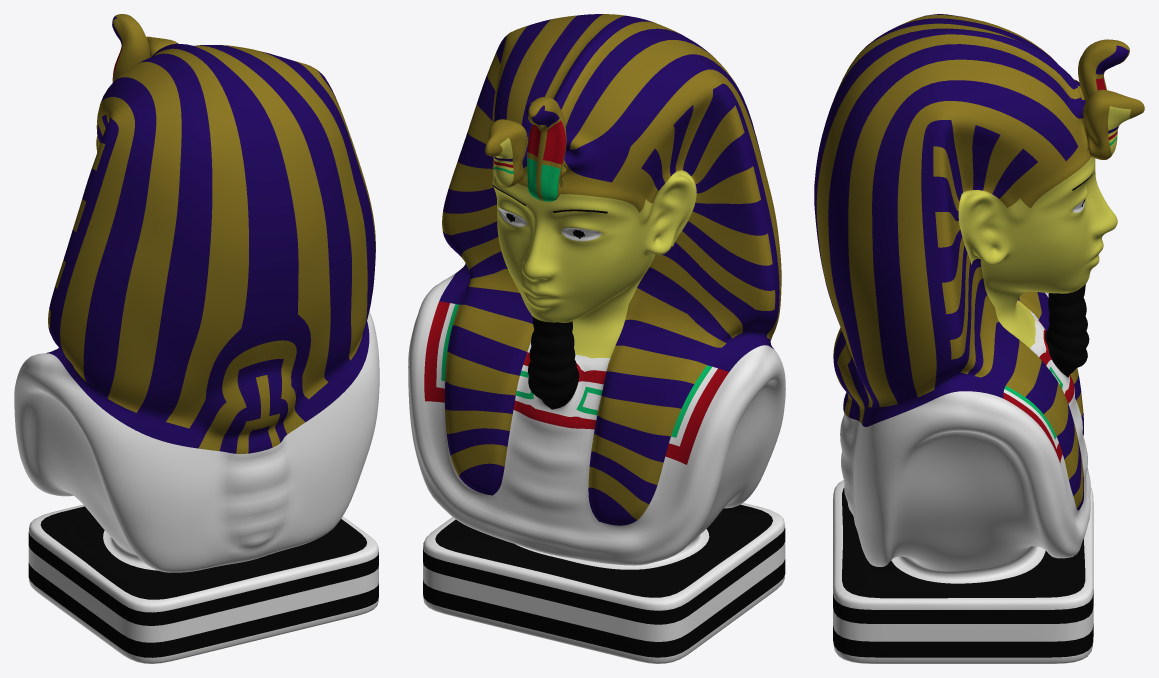
File: pharaoh.fbx
3 views of the same model, side by side, from view 1: azimuth 30°, elevation 25°; view 2: azimuth 150°, elevation 25°; view 3: azimuth 270°, elevation 25° (orthographic). The views are drawn at different scales.
Parts seen in each view (by area): view 1: 15778_NoveltyBust_EgyptianPharaoh_V1_NEW; view 2: 15778_NoveltyBust_EgyptianPharaoh_V1_NEW; view 3: 15778_NoveltyBust_EgyptianPharaoh_V1_NEW.
Part boxes in pixels (x1,y1,x2,y2): 15778_NoveltyBust_EgyptianPharaoh_V1_NEW: (14,14,379,663); 15778_NoveltyBust_EgyptianPharaoh_V1_NEW: (408,14,785,663); 15778_NoveltyBust_EgyptianPharaoh_V1_NEW: (814,14,1144,663).
Bounding box in the file's own units: 1544 × 2492 × 1308.
